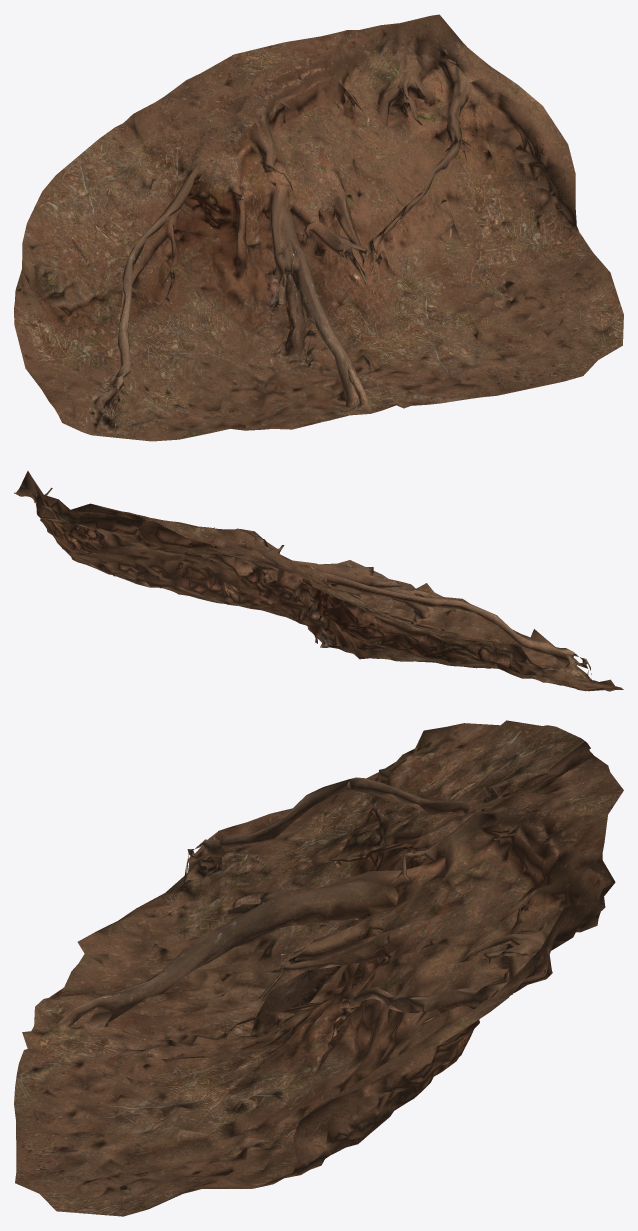
Rendered from root_cluster_01.glb.
The picture shows the model from 3 angles, top to bottom: view 1: azimuth 30°, elevation 25°; view 2: azimuth 150°, elevation 25°; view 3: azimuth 270°, elevation 25°; orthographic projection. The views are drawn at different scales.
Visible parts, largest first — view 1: root_cluster_01; view 2: root_cluster_01; view 3: root_cluster_01.
Part boxes in pixels (left/top/right/bottom): root_cluster_01: left=14, top=14, right=623, bottom=441; root_cluster_01: left=14, top=471, right=623, bottom=691; root_cluster_01: left=14, top=720, right=623, bottom=1216.
Bounding box in the file's own units: 4.11 × 1.5 × 2.67.
Materials: 1 (1 with a texture image).
